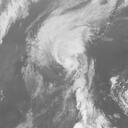cyclone: (31, 26, 92, 84)
